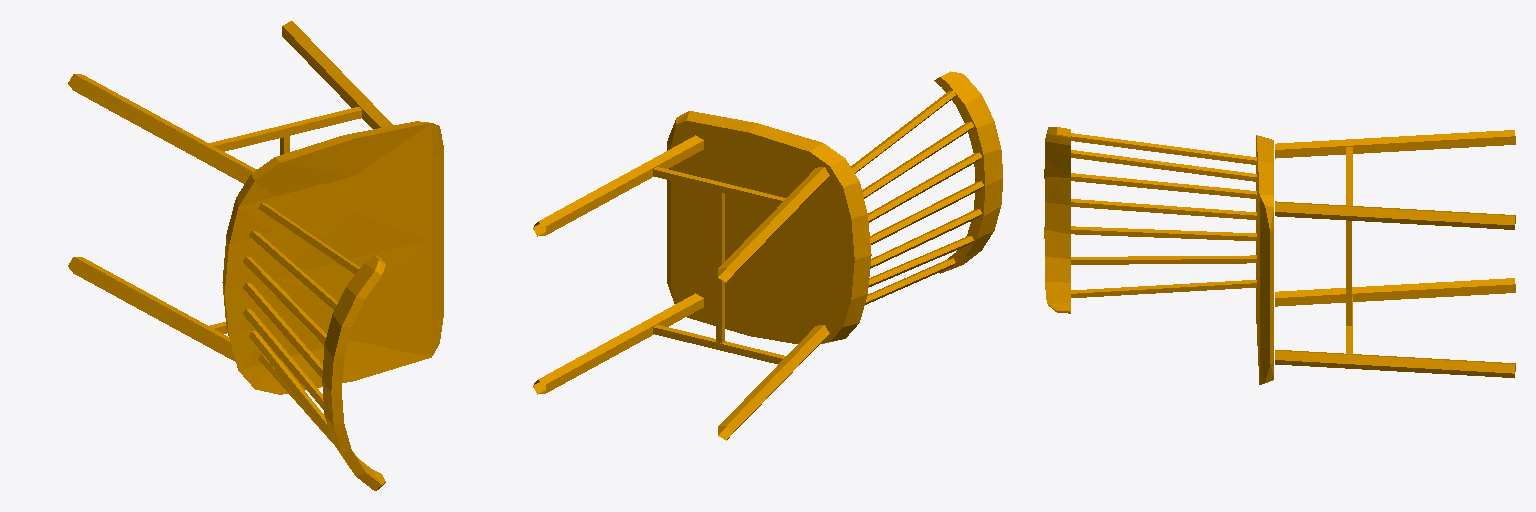
The robot description file, URDF, robot "model.urdf":
<?xml version="0.0" ?>
<robot name="model.urdf">
  <link name="baseLink">
    <contact>
      <friction_anchor/>
      <lateral_friction value="0.3"/>
      <rolling_friction value="0.0"/>
      <contact_cfm value="0.0"/>
      <contact_erp value="1.0"/>
    </contact>
    <inertial>
      <origin rpy="0 0 0" xyz="0 0 0"/>
      <mass value="0.1"/>
      <inertia ixx="3.e-04" ixy="0" ixz="0" iyy="1.6e-04" iyz="0" izz="3.e-04"/>
    </inertial>
    <visual>
      <geometry>
        <mesh filename="textured.dae" scale="0.85 0.85 0.85"/>
      </geometry>
      <material name="red">
        <texture filename="texture_map.png"/>
      </material>
    </visual>
    <collision>
      <geometry>
        <mesh filename="textured.dae" scale="0.85 0.85 0.85"/>
      </geometry>
    </collision>
  </link>
</robot>

--- What the picture shows (computed from the rendered views, not written in the file) ---
Views: 3 orthographic renders of the robot side by side, from view 1: azimuth 30°, elevation 25°; view 2: azimuth 150°, elevation 25°; view 3: azimuth 270°, elevation 25°.
Robot: model.urdf — 1 links, 0 joints (none); root link baseLink; default pose: all joints at 0.
Links seen in each view (by area): view 1: baseLink; view 2: baseLink; view 3: baseLink.
Boxes of the visible links, x1,y1,x2,y2 form: baseLink: (68, 21, 443, 490); baseLink: (533, 71, 1002, 440); baseLink: (1044, 127, 1515, 384).
Size in the robot's own frame: 0.3418 by 0.6725 by 0.3097 metres.
Meshes: 1 distinct files referenced, 1 mesh visuals loaded (1 Collada DAE).